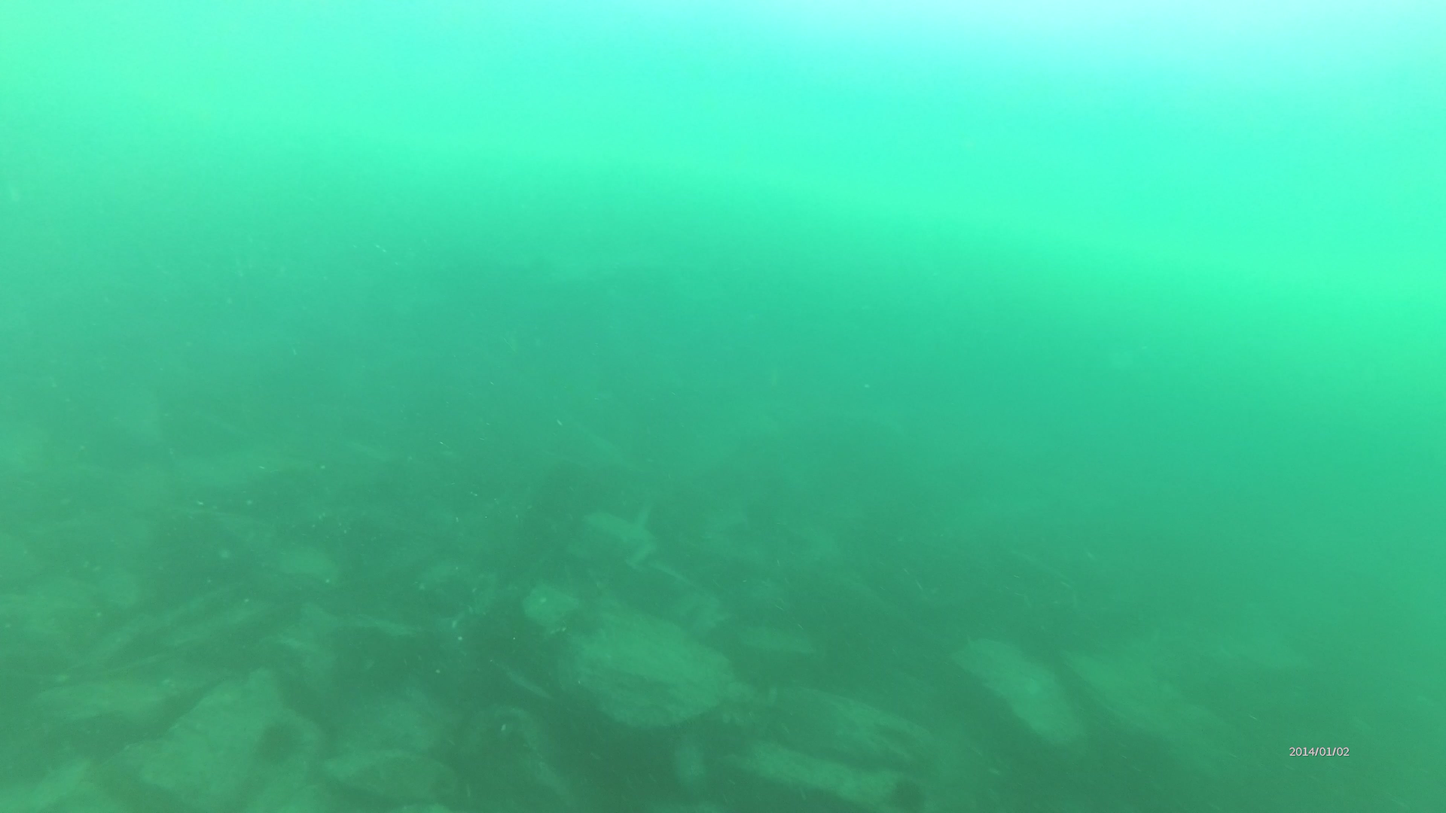starfish: (254, 720, 309, 763)
